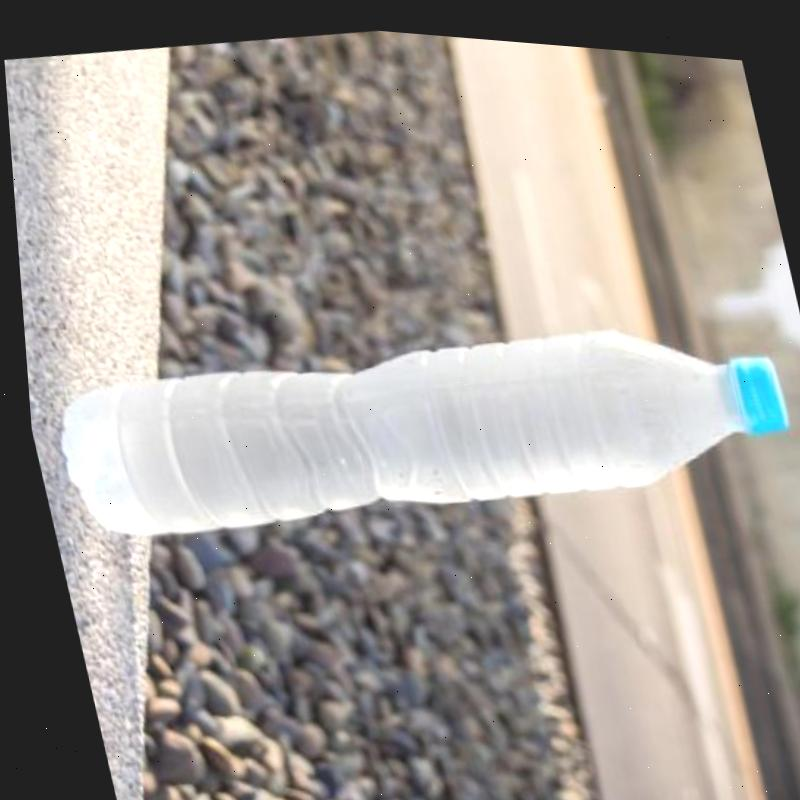botella: (25, 246, 800, 587)
